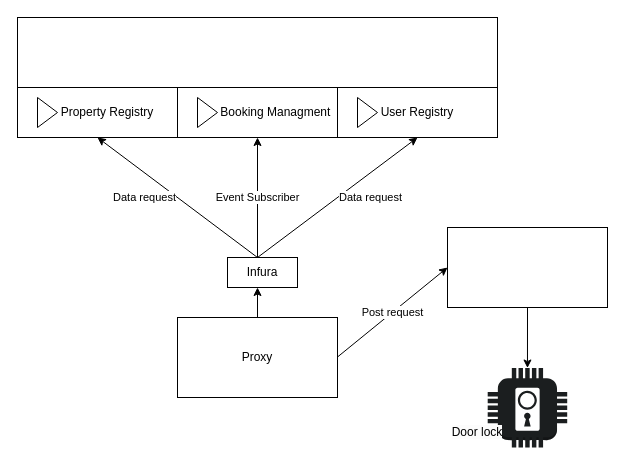
Image size: 625x465. Some labels were removed from this diagram. Here are the shapes that lost their labels. From the top down, the box of each, then its label:
(16, 16, 498, 138): Ethereum Blockchain
(446, 226, 608, 308): Home Assistant
